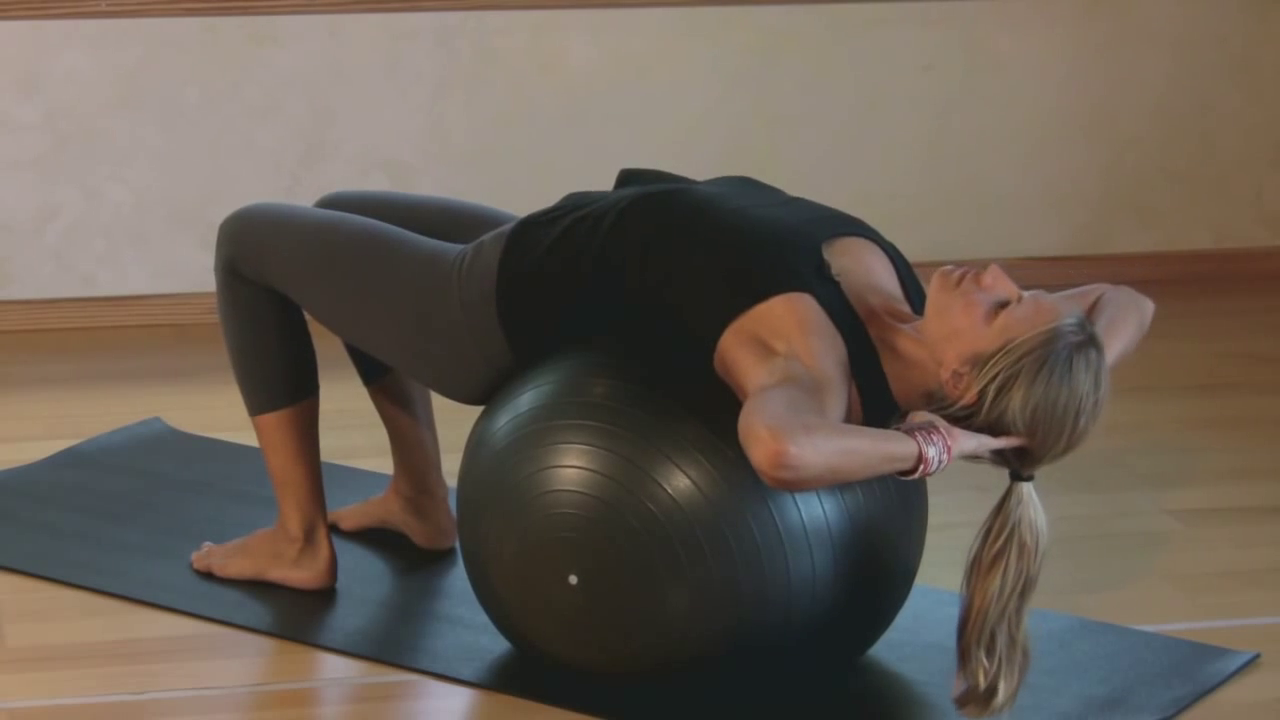yogaball: (452, 336, 936, 693)
